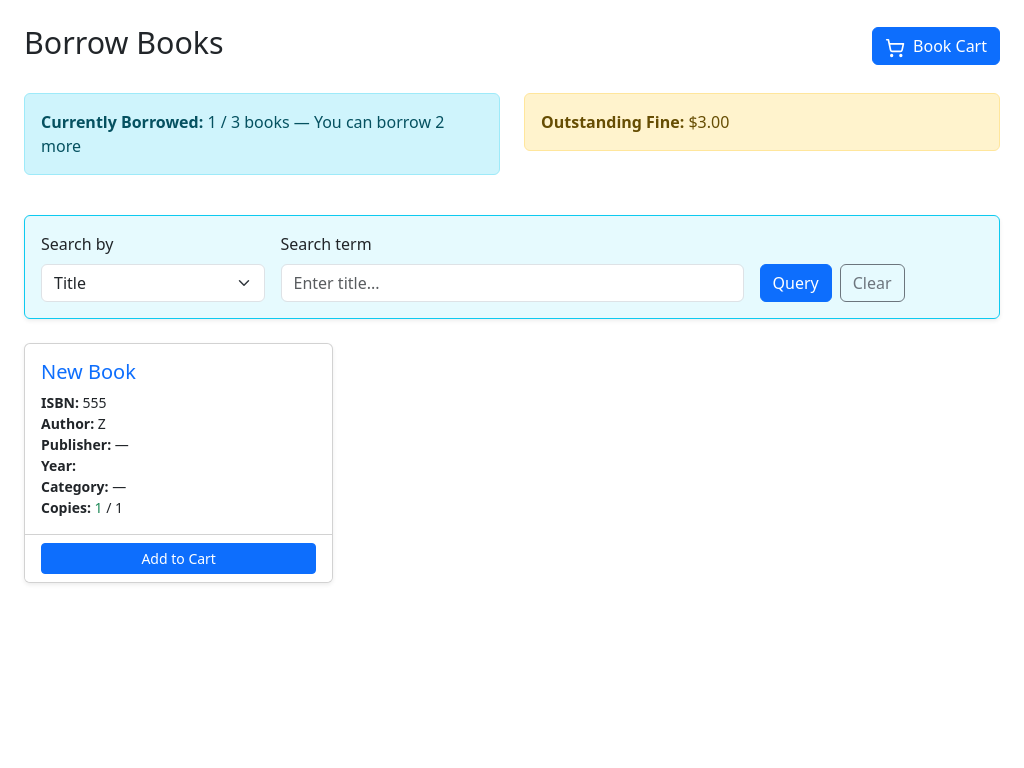
it: BorrowBooks › member has 1 active book with fine = $3, can still borrow and checkout
// Add book to cart
Click the button "Add to Cart": (179, 558) 41,542 -> 316,574
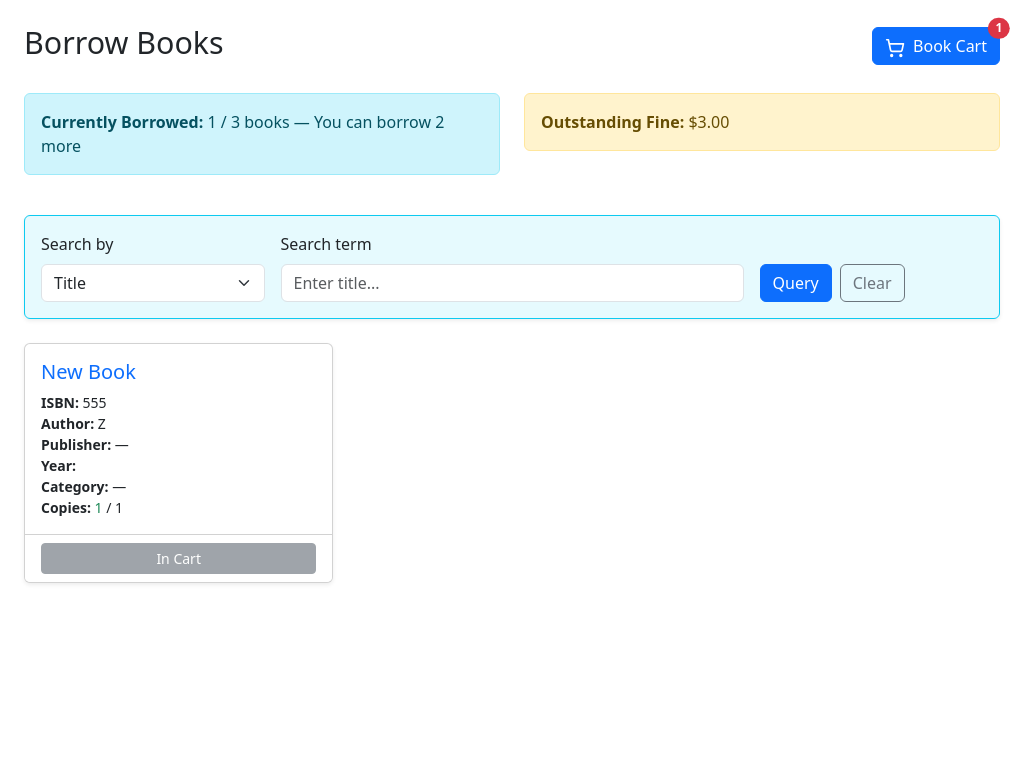
// Badge shows 1 item in cart
Click the button "Book Cart 1": (936, 46) 872,27 -> 1000,65
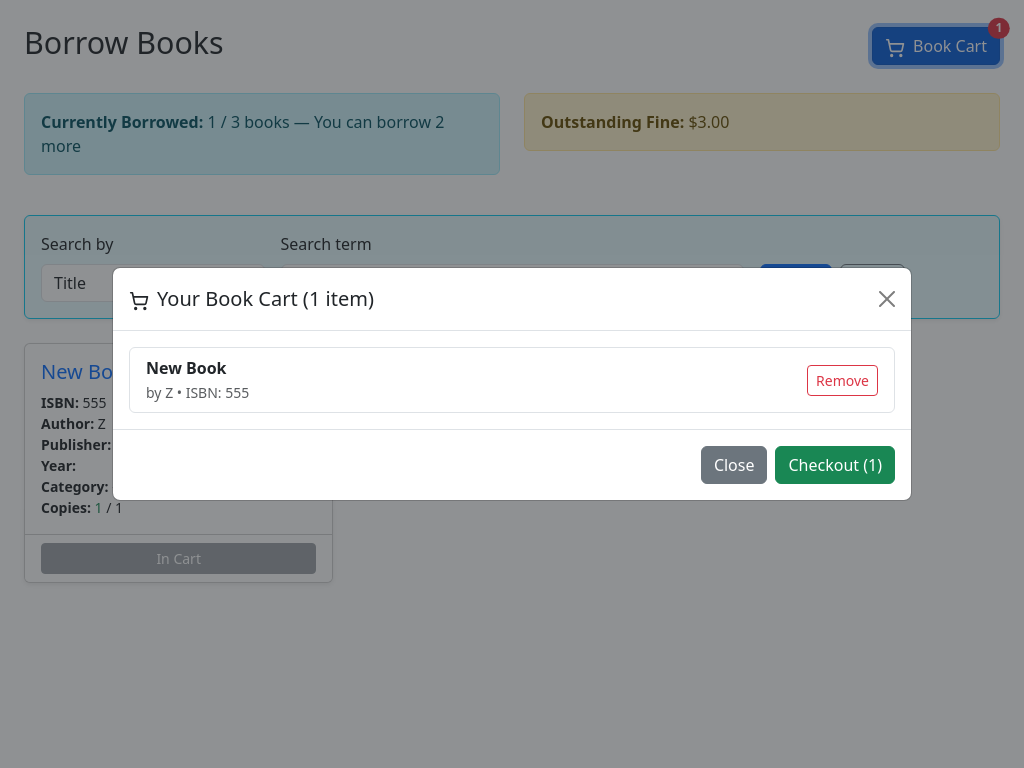
Click the button "Checkout (1)": (835, 465) 776,446 -> 895,484
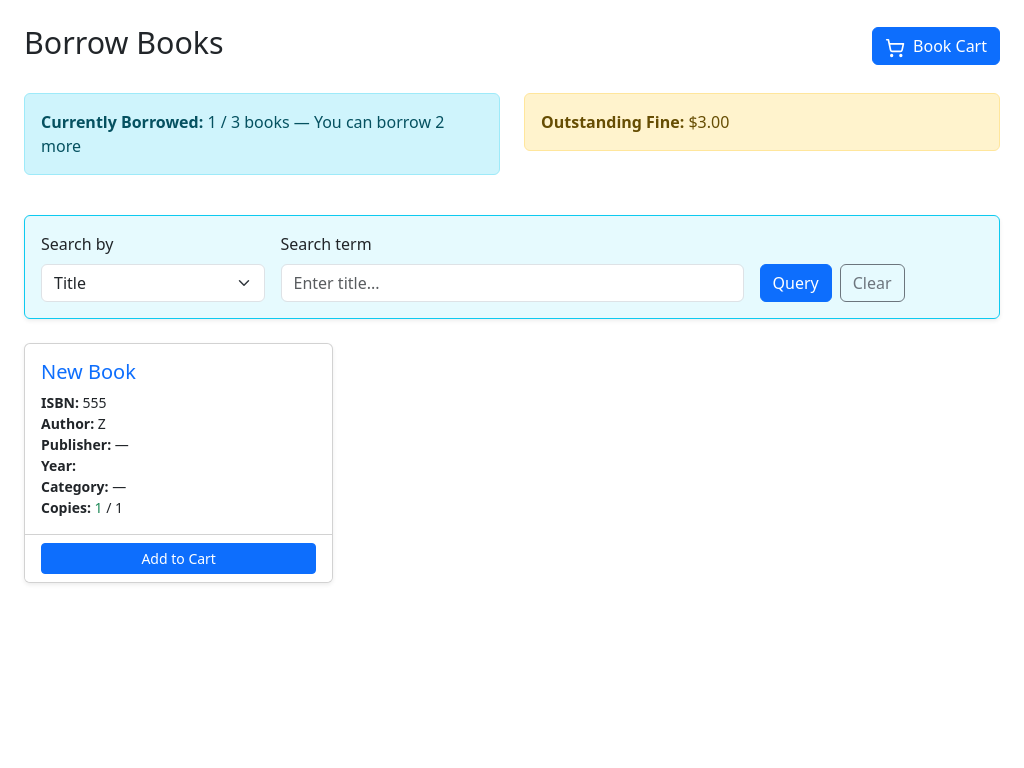
Expected: the button "Book Cart" is shown, 872,27 -> 1000,65
Expected: the button "Book Cart 1" is gone
